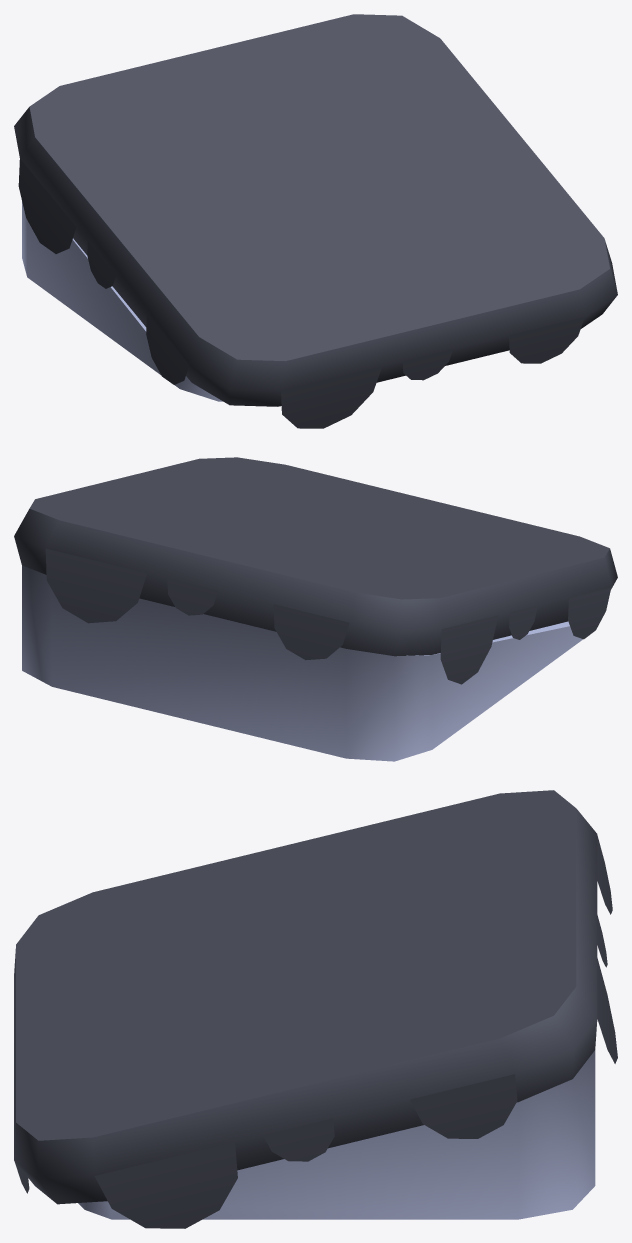
Rendered from block-snow-overhang-large-slope.glb.
The picture shows the model from 3 angles, top to bottom: view 1: azimuth 30°, elevation 25°; view 2: azimuth 150°, elevation 25°; view 3: azimuth 270°, elevation 25°; orthographic projection. The views are drawn at different scales.
Visible parts, largest first — view 1: block-snow-overhang-large-slope; view 2: block-snow-overhang-large-slope; view 3: block-snow-overhang-large-slope.
Boxes of the visible parts, x1,y1,x2,y2 form: block-snow-overhang-large-slope: (14,14,617,428); block-snow-overhang-large-slope: (14,457,617,761); block-snow-overhang-large-slope: (14,790,617,1228).
Size of the model in its own units: 2.08 by 0.9144 by 2.08.
